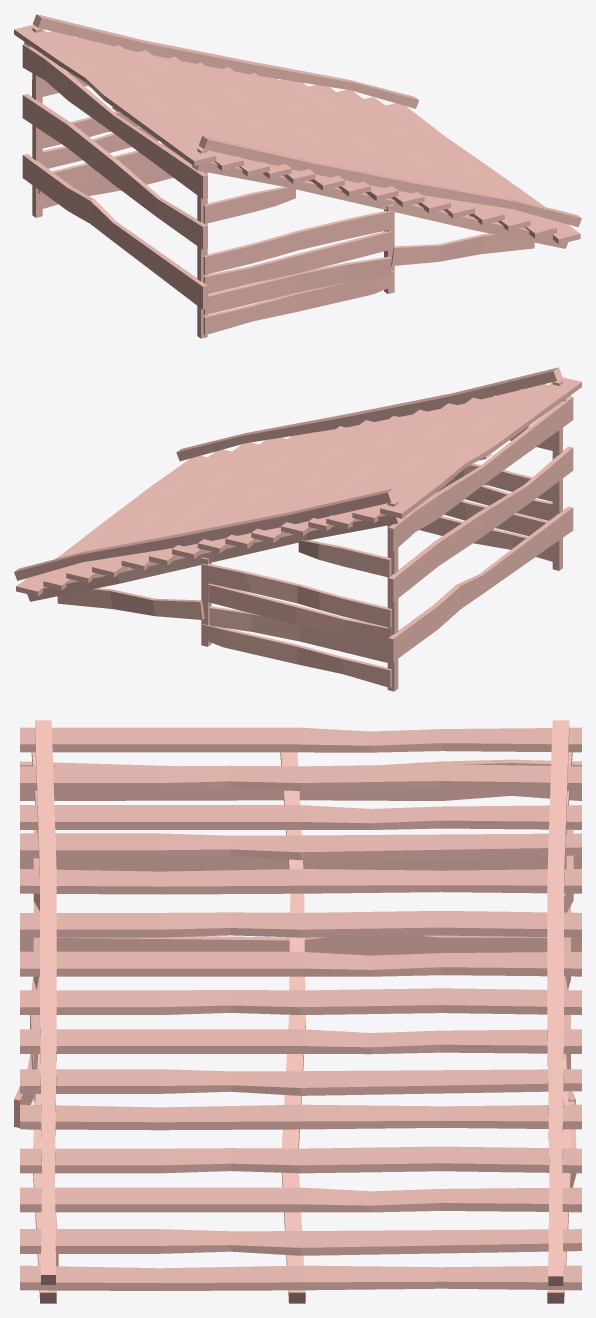
File: Mega_Asset_s_Pack_Cube_256.FBX
3 renders of one model, top to bottom at view 1: azimuth 30°, elevation 25°; view 2: azimuth 150°, elevation 25°; view 3: azimuth 270°, elevation 25°, orthographic. The views are drawn at different scales.
Parts seen in each view (by area): view 1: Mega_Asset_s_Pack_Cube_256; view 2: Mega_Asset_s_Pack_Cube_256; view 3: Mega_Asset_s_Pack_Cube_256.
Boxes of the visible parts, x1,y1,x2,y2 form: Mega_Asset_s_Pack_Cube_256: (14,14,581,338); Mega_Asset_s_Pack_Cube_256: (14,367,581,691); Mega_Asset_s_Pack_Cube_256: (14,720,581,1303).
Size of what is drawn, in the model's own units: 881 by 704 by 424.
